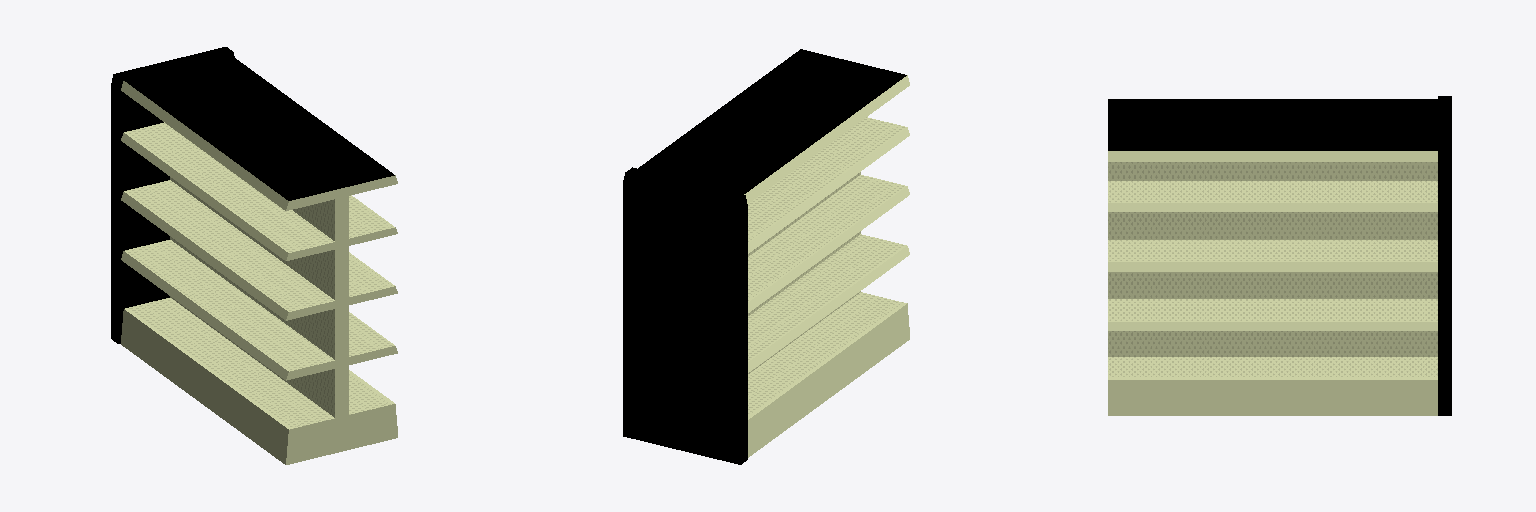
3 renders of one model, left to right at view 1: azimuth 30°, elevation 25°; view 2: azimuth 150°, elevation 25°; view 3: azimuth 270°, elevation 25°, orthographic.
Parts seen in each view (by area): view 1: Shelf, Divider.001; view 2: Shelf, Divider.001; view 3: Shelf, Divider.001.
Part boxes in pixels (x1,y1,x2,y2): Shelf: (121,54,397,464); Divider.001: (111,47,234,343); Shelf: (638,49,909,457); Divider.001: (623,167,747,464); Shelf: (1108,99,1437,415); Divider.001: (1438,96,1451,415).
Bounding box in the file's own units: 3.48 × 7.49 × 8.83.
1 materials, 1 textured.